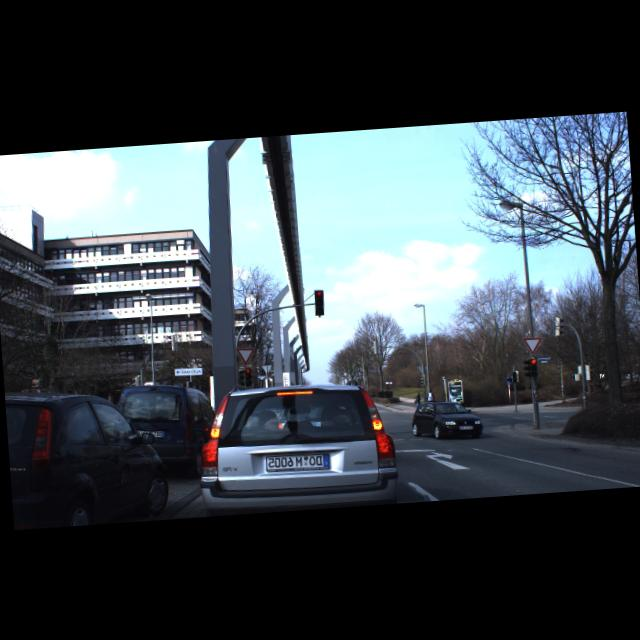other: (522, 336, 543, 355), (236, 346, 256, 364)
